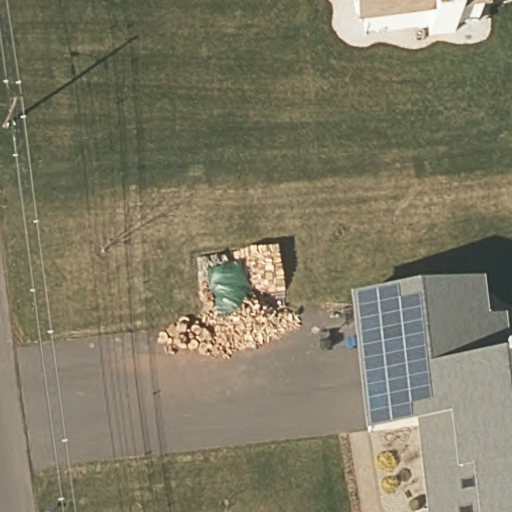DT: (1, 77, 28, 130)
